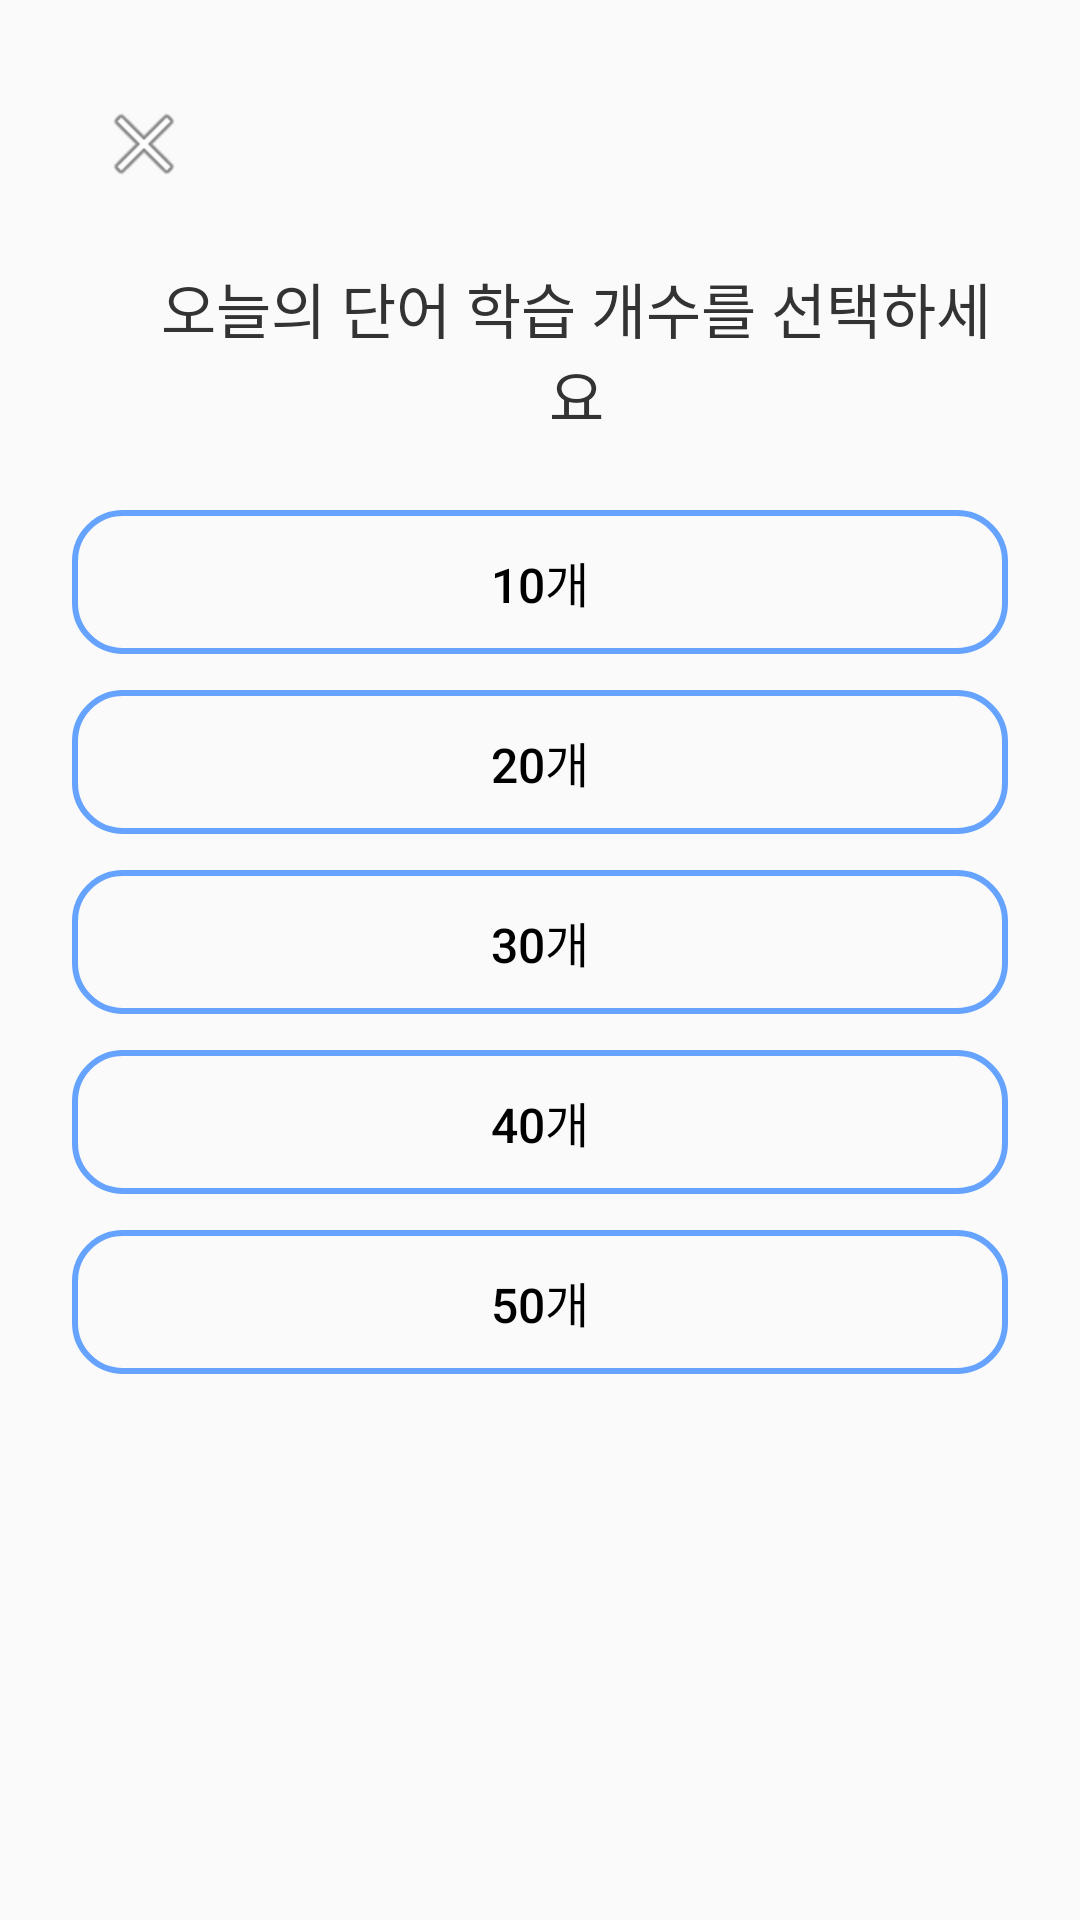

Point at icon controls on the screen. Image size 1080px x 1920px, points as (x=x, y=y).
닫기: (x=144, y=144)
